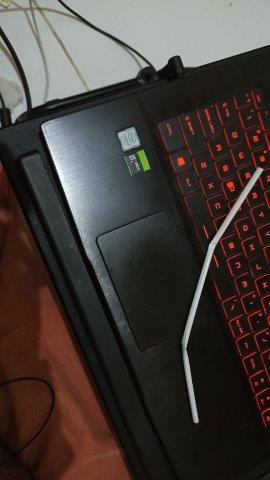sedotan: (182, 168, 262, 421)
